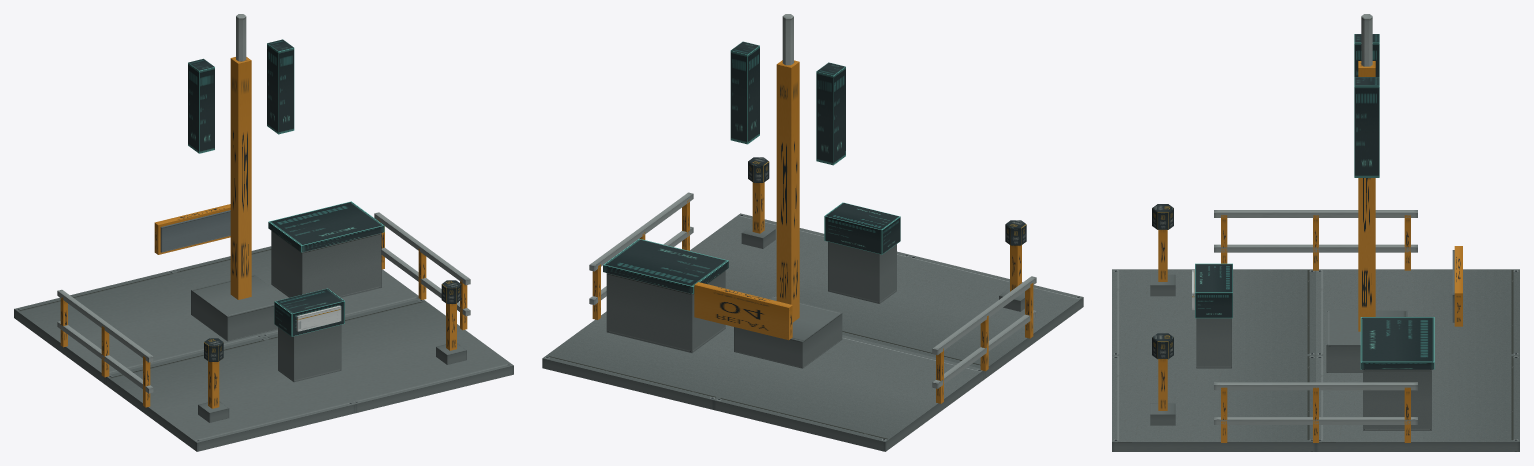
Rendered from RelayPlatform_LOD3.obj.
3 renders of one model, left to right at view 1: azimuth 30°, elevation 25°; view 2: azimuth 150°, elevation 25°; view 3: azimuth 270°, elevation 25°, orthographic. The views are drawn at different scales.
Parts seen in each view (by area): view 1: 004_relay_mast.003, 000_floor_4m.019, 002_floor_4m.011, 001_floor_4m.011, 006_generator.003, 005_console.003, 003_floor_4m.007, 007_railing_4m.003, 009_sign_relay.003, 008_railing_4m.003, 010_beacon.003, 011_beacon.003; view 2: 001_floor_4m.011, 004_relay_mast.003, 000_floor_4m.019, 003_floor_4m.007, 006_generator.003, 002_floor_4m.011, 005_console.003, 009_sign_relay.003, 007_railing_4m.003, 008_railing_4m.003, 011_beacon.003, 010_beacon.003; view 3: 002_floor_4m.011, 000_floor_4m.019, 003_floor_4m.007, 001_floor_4m.011, 004_relay_mast.003, 006_generator.003, 008_railing_4m.003, 005_console.003, 007_railing_4m.003, 010_beacon.003, 011_beacon.003, 009_sign_relay.003.
Boxes of the visible parts, x1,y1,x2,y2 form: 004_relay_mast.003: (188, 14, 294, 341); 000_floor_4m.019: (105, 337, 355, 451); 002_floor_4m.011: (264, 299, 513, 413); 001_floor_4m.011: (14, 270, 263, 384); 006_generator.003: (268, 201, 384, 297); 005_console.003: (274, 288, 344, 382); 003_floor_4m.007: (173, 246, 419, 336); 007_railing_4m.003: (57, 289, 153, 407); 009_sign_relay.003: (154, 204, 230, 254); 008_railing_4m.003: (374, 212, 470, 330); 010_beacon.003: (198, 338, 229, 422); 011_beacon.003: (436, 280, 466, 364); 001_floor_4m.011: (714, 335, 984, 451); 004_relay_mast.003: (730, 14, 845, 368); 000_floor_4m.019: (836, 255, 1083, 378); 003_floor_4m.007: (542, 311, 767, 409); 006_generator.003: (603, 238, 728, 352); 002_floor_4m.011: (690, 213, 911, 310); 005_console.003: (824, 202, 900, 303); 009_sign_relay.003: (694, 282, 792, 340); 007_railing_4m.003: (932, 276, 1036, 403); 008_railing_4m.003: (589, 192, 693, 319); 011_beacon.003: (741, 157, 775, 248); 010_beacon.003: (999, 220, 1026, 311); 002_floor_4m.011: (1112, 355, 1315, 451); 000_floor_4m.019: (1112, 269, 1315, 355); 003_floor_4m.007: (1316, 355, 1519, 451); 001_floor_4m.011: (1316, 269, 1519, 355); 004_relay_mast.003: (1326, 14, 1407, 372); 006_generator.003: (1360, 317, 1434, 430); 008_railing_4m.003: (1214, 382, 1417, 442); 005_console.003: (1192, 263, 1232, 368); 007_railing_4m.003: (1214, 210, 1417, 270); 010_beacon.003: (1150, 204, 1175, 296); 011_beacon.003: (1150, 333, 1175, 425); 009_sign_relay.003: (1452, 246, 1462, 326).
Size of the model in its own units: 8.12 by 7.57 by 8.
1 material, 1 textured.
